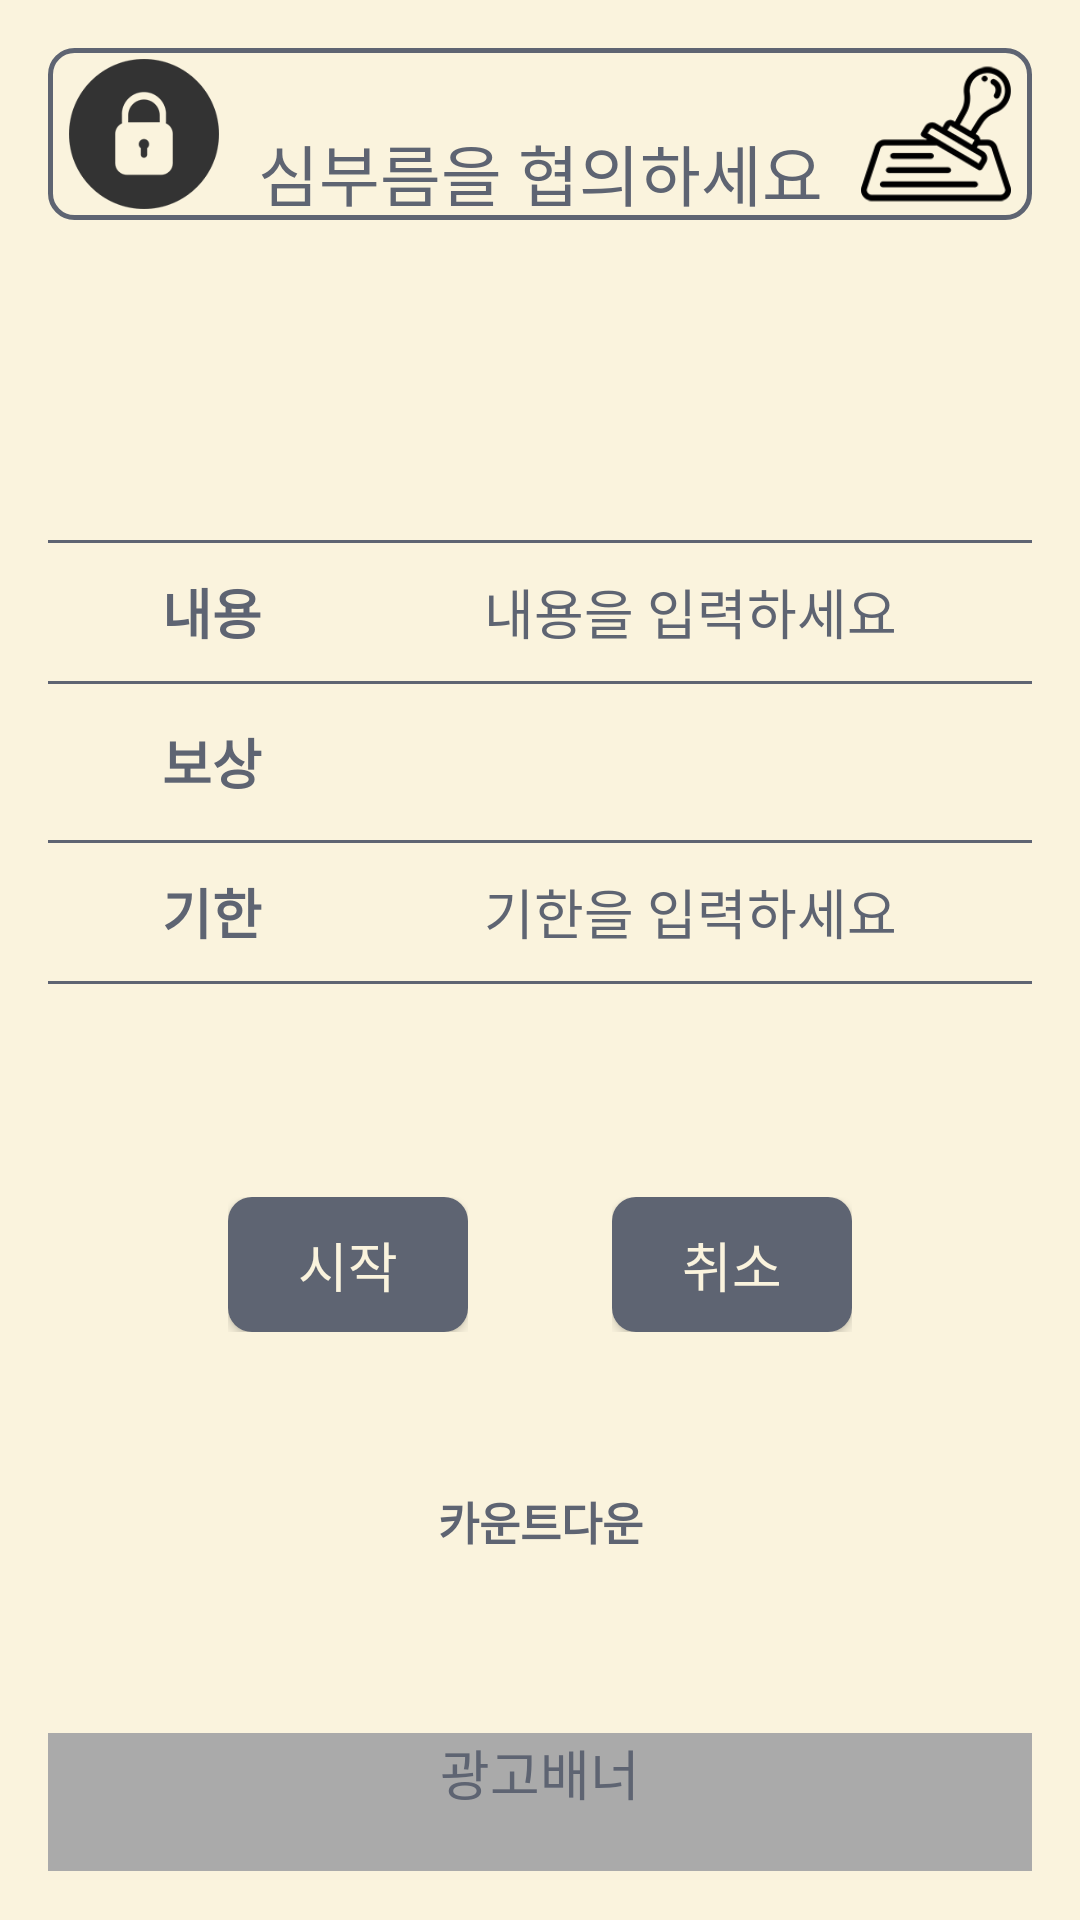

Point at icon controls on the screen. Image size 1080x1920, points as point (x, y).
lock: point (144, 134)
